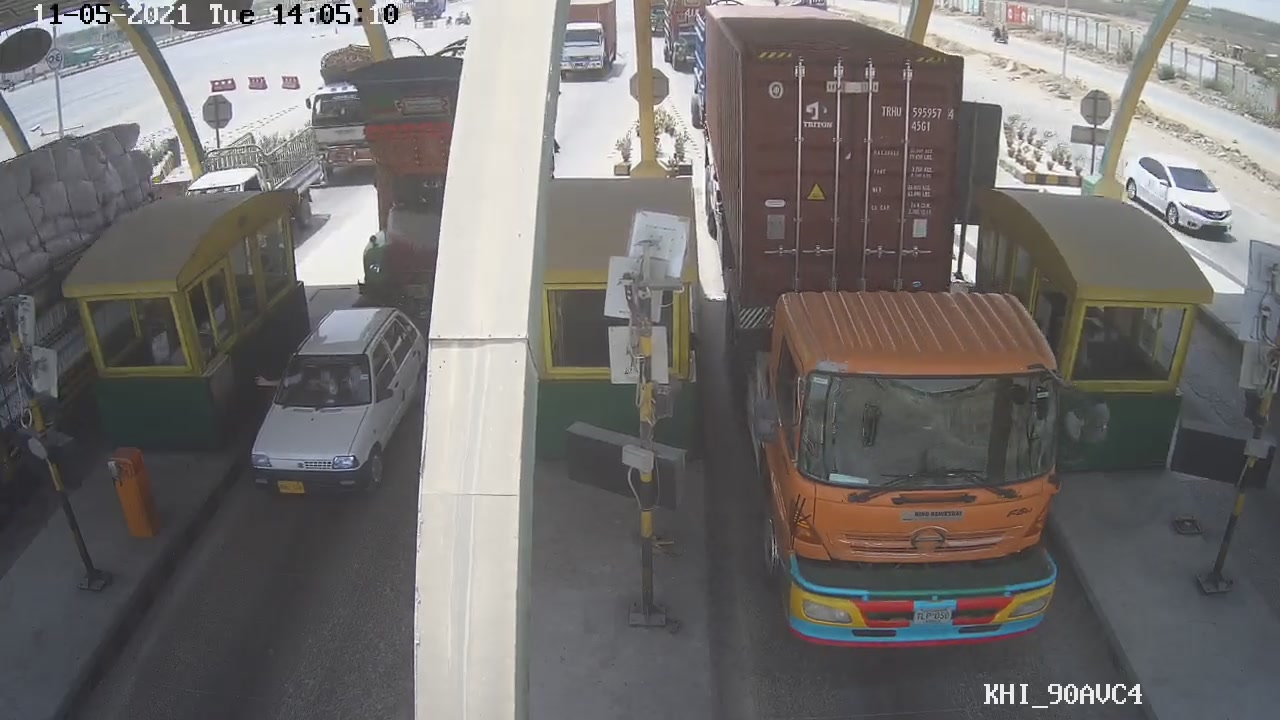F6: (694, 8, 1088, 651)
